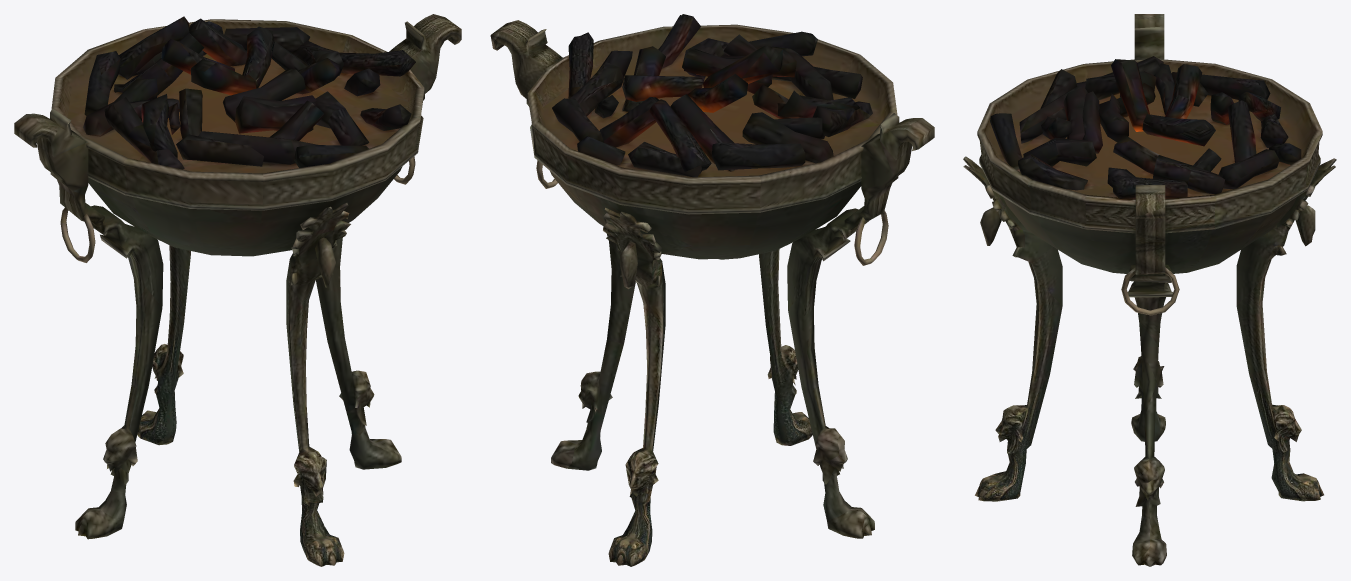
File: brazier_flame.glb
3 views of the same model, side by side, from view 1: azimuth 30°, elevation 25°; view 2: azimuth 150°, elevation 25°; view 3: azimuth 270°, elevation 25° (orthographic). The views are drawn at different scales.
Parts seen in each view (by area): view 1: brazier_flame; view 2: brazier_flame; view 3: brazier_flame.
Part boxes in pixels (x1,y1,x2,y2): brazier_flame: (14,14,461,566); brazier_flame: (490,14,934,566); brazier_flame: (963,14,1336,566).
Size of the model in its own units: 0.9963 by 1 by 0.816.
Materials: 1 (1 with a texture image).
